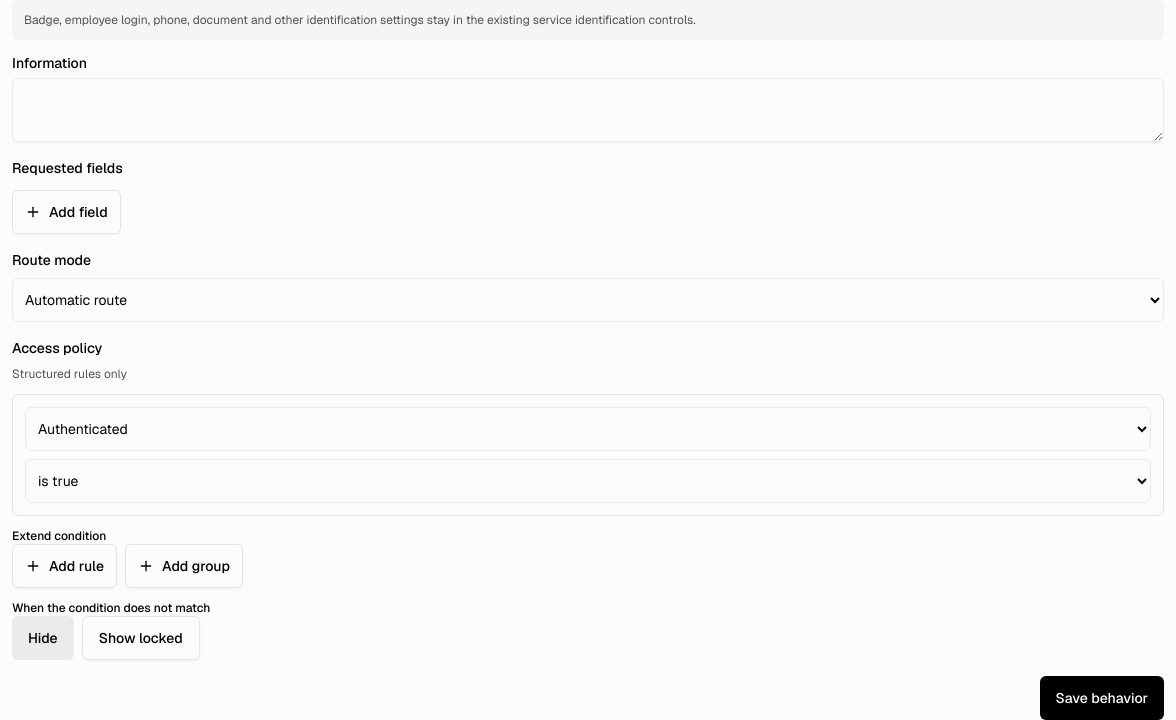
Scenario: ServiceBehaviorEditor › keeps generated API failures visible and lets an operator retry
(page scrolled)
Click the button "Save behavior" at (1102, 698), box left=1040, top=676, right=1164, bottom=719
(page scrolled)
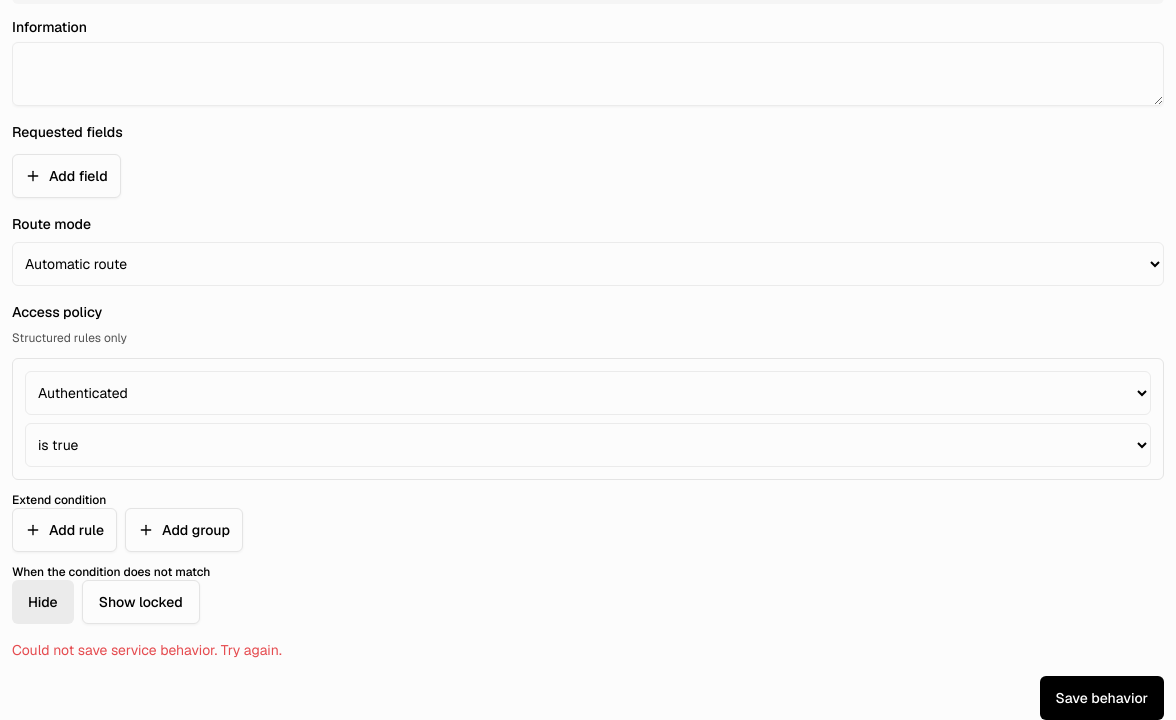
Expected: the message shows "Could not save service behavior", left=12, top=641, right=282, bottom=659
